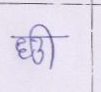i_matra: (34, 23, 58, 69)
